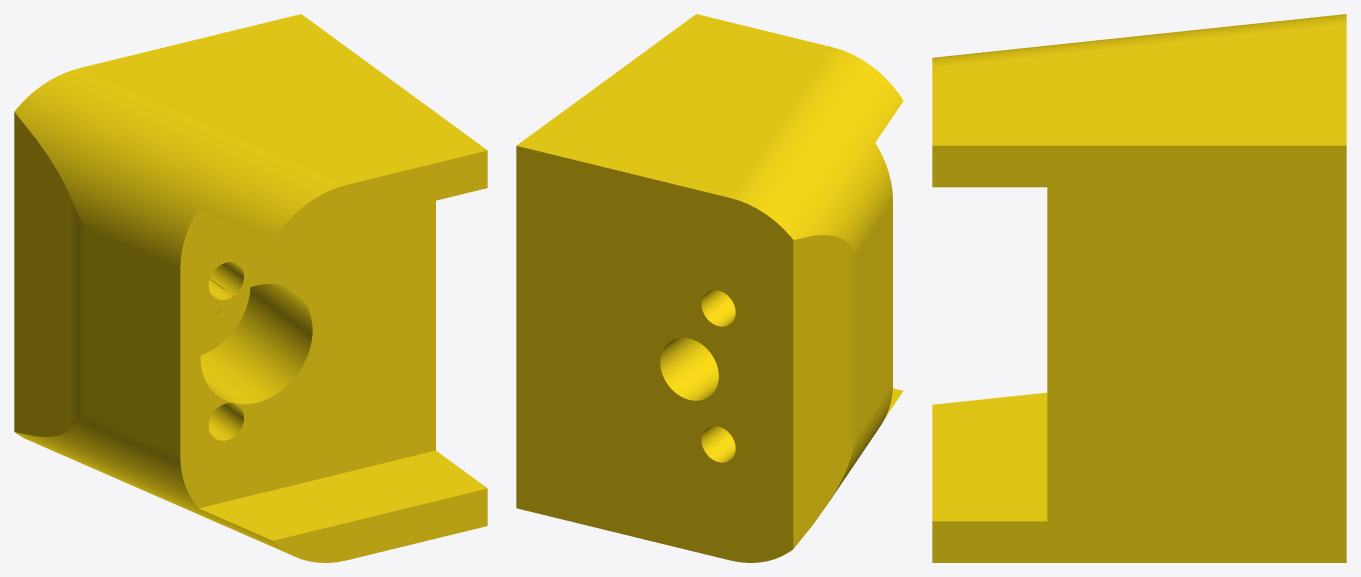
File: A26_S111_railEndstop_1.gltf
3 views of the same model, side by side, from view 1: azimuth 30°, elevation 25°; view 2: azimuth 150°, elevation 25°; view 3: azimuth 270°, elevation 25° (orthographic). The views are drawn at different scales.
Parts seen in each view (by area): view 1: mesh21271, mesh21283, mesh21281, mesh21272, mesh21277, mesh21273, mesh21269, mesh21282, mesh21274, mesh21276, mesh21278, mesh21266 (+2 smaller); view 2: mesh21279, mesh21283, mesh21281, mesh21277, mesh21272, mesh21265, mesh21278, mesh21276, mesh21268, mesh21267; view 3: mesh21280, mesh21283, mesh21273, mesh21281.
Part boxes in pixels (left/top/right/bottom): mesh21271: left=180, top=200, right=435, bottom=508; mesh21283: left=80, top=14, right=487, bottom=184; mesh21281: left=14, top=68, right=346, bottom=268; mesh21272: left=85, top=227, right=180, bottom=456; mesh21277: left=14, top=112, right=69, bottom=437; mesh21273: left=199, top=450, right=487, bottom=540; mesh21269: left=200, top=284, right=312, bottom=404; mesh21282: left=273, top=150, right=487, bottom=240; mesh21274: left=273, top=488, right=487, bottom=562; mesh21276: left=15, top=415, right=290, bottom=554; mesh21278: left=70, top=196, right=85, bottom=428; mesh21266: left=200, top=287, right=250, bottom=354; mesh21279: left=516, top=146, right=793, bottom=562; mesh21283: left=516, top=14, right=831, bottom=197; mesh21281: left=730, top=47, right=903, bottom=254; mesh21277: left=793, top=235, right=847, bottom=548; mesh21272: left=857, top=202, right=892, bottom=435; mesh21265: left=660, top=337, right=718, bottom=400; mesh21278: left=847, top=243, right=856, bottom=466; mesh21276: left=828, top=383, right=892, bottom=502; mesh21268: left=701, top=290, right=735, bottom=326; mesh21267: left=701, top=426, right=735, bottom=462; mesh21280: left=932, top=145, right=1346, bottom=562; mesh21283: left=932, top=25, right=1346, bottom=145; mesh21273: left=932, top=392, right=1047, bottom=521; mesh21281: left=932, top=14, right=1346, bottom=68.
Size of the model in its own units: 0.0203 by 0.0254 by 0.0229.
